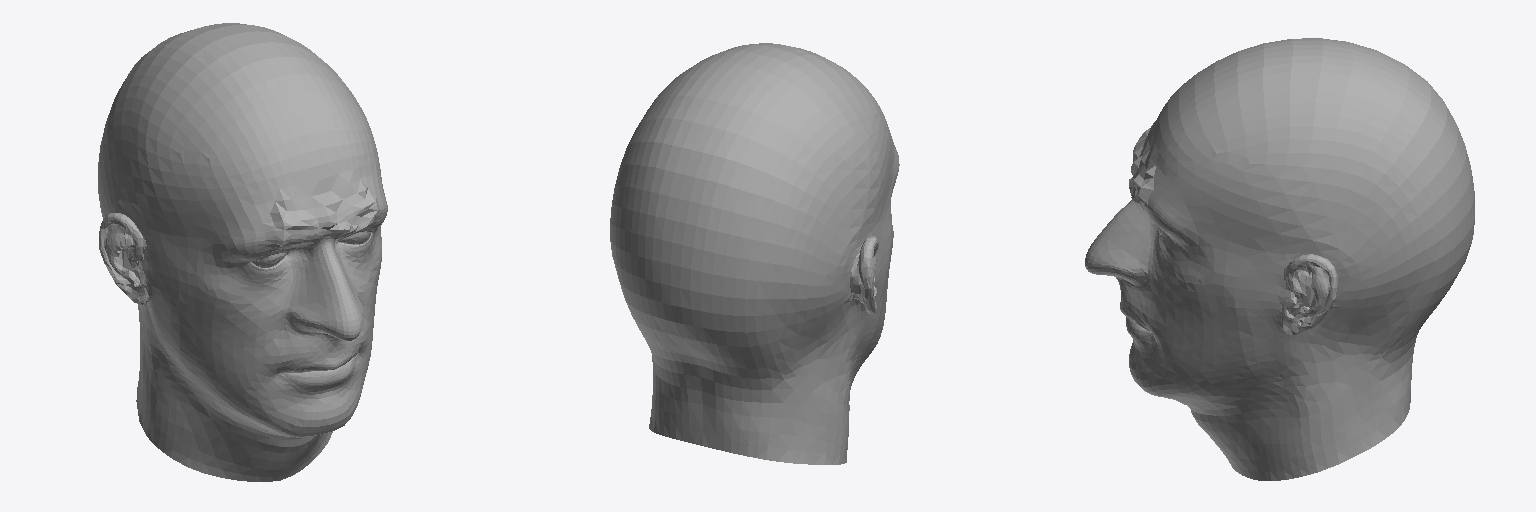
Rendered from MaleFaced23.obj.
3 renders of one model, left to right at view 1: azimuth 30°, elevation 25°; view 2: azimuth 150°, elevation 25°; view 3: azimuth 270°, elevation 25°, orthographic.
Visible parts, largest first — view 1: HeadHires; view 2: HeadHires; view 3: HeadHires.
Part boxes in pixels (bbox=[...]): HeadHires: bbox=[98, 23, 387, 481]; HeadHires: bbox=[610, 43, 899, 464]; HeadHires: bbox=[1085, 38, 1474, 480].
Size of the model in its own units: 187 by 282 by 242.